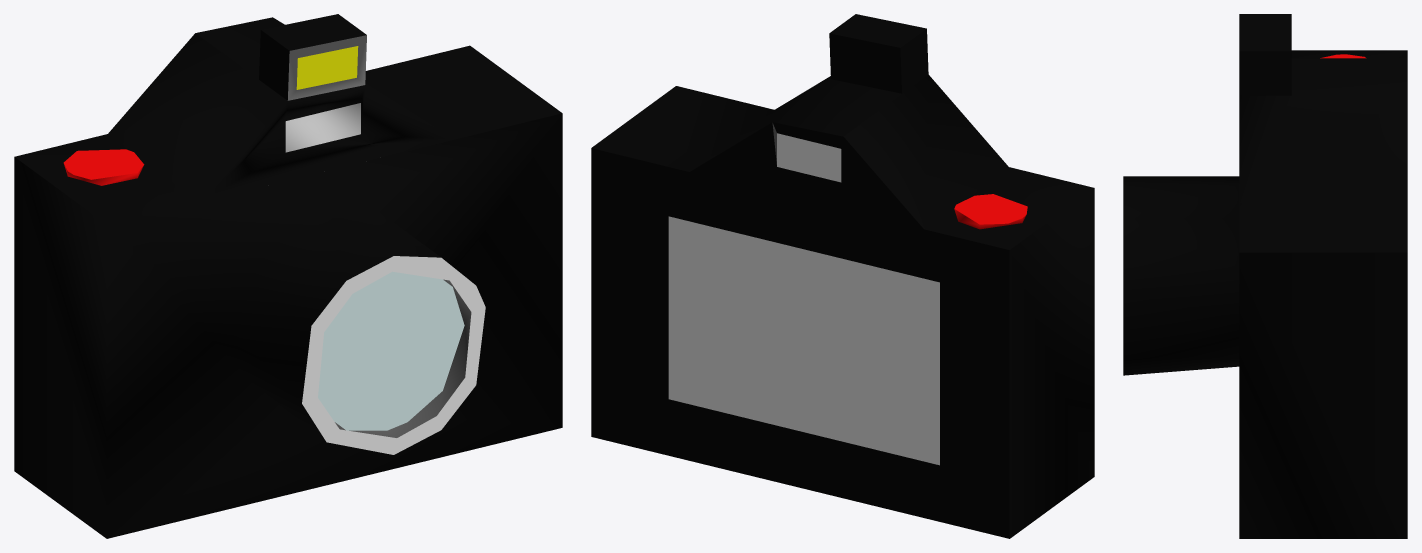
3 renders of one model, left to right at view 1: azimuth 30°, elevation 25°; view 2: azimuth 150°, elevation 25°; view 3: azimuth 270°, elevation 25°, orthographic. The views are drawn at different scales.
Parts seen in each view (by area): view 1: Mesh1_Color_M09_0, Mesh1_Color_H01_0, Mesh1_Color_M00_0, Mesh1_Color_008_0, Mesh1_Translucent_Glass_Gray_0, Mesh1_Color_A01_0, Mesh1_Color_E01_0; view 2: Mesh1_Color_M09_0, Mesh1_Color_M01_0, Mesh1_Color_A01_0; view 3: Mesh1_Color_M09_0.
Boxes of the visible parts, x1,y1,x2,y2 form: Mesh1_Color_M09_0: [14, 14, 562, 538]; Mesh1_Color_H01_0: [318, 271, 464, 430]; Mesh1_Color_M00_0: [302, 256, 485, 454]; Mesh1_Color_008_0: [287, 35, 471, 437]; Mesh1_Translucent_Glass_Gray_0: [285, 103, 360, 152]; Mesh1_Color_A01_0: [63, 149, 144, 185]; Mesh1_Color_E01_0: [296, 46, 358, 89]; Mesh1_Color_M09_0: [591, 14, 1094, 538]; Mesh1_Color_M01_0: [668, 133, 939, 465]; Mesh1_Color_A01_0: [954, 194, 1027, 229]; Mesh1_Color_M09_0: [1123, 14, 1407, 538].
Size of the model in its own units: 16.24 by 15.1 by 9.64.
